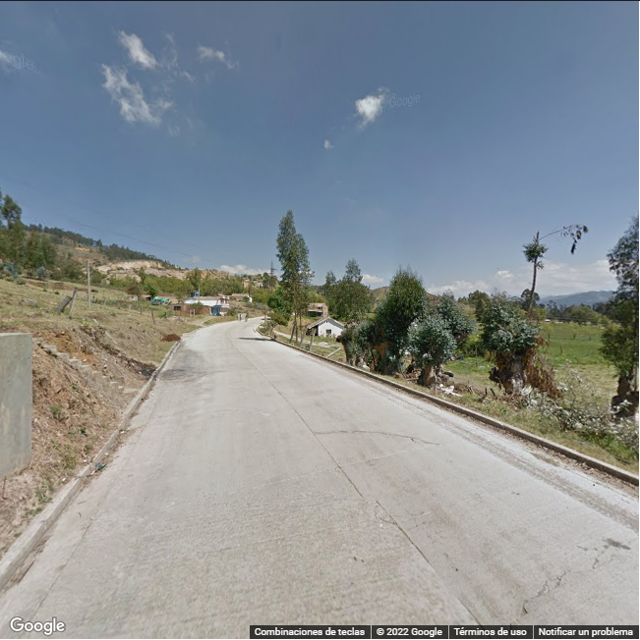D00: (370, 499, 397, 522)
D10: (521, 571, 571, 619), (312, 425, 434, 444)
